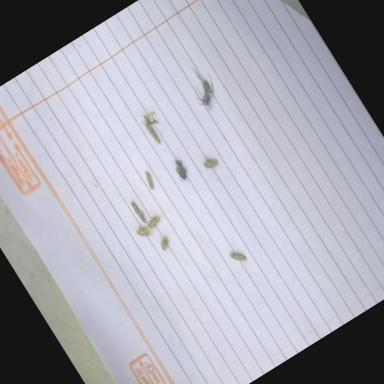pbw: (196, 148, 225, 178), (134, 101, 162, 130), (226, 246, 252, 273), (140, 117, 162, 146), (128, 199, 150, 227), (132, 219, 155, 242), (146, 210, 166, 228), (155, 232, 173, 251), (141, 170, 157, 190)
